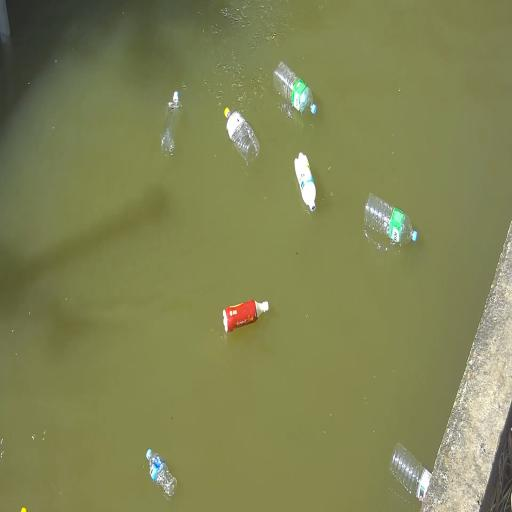plastic: (365, 193, 417, 245), (390, 443, 431, 501), (274, 62, 316, 114), (224, 107, 260, 166), (223, 300, 269, 333), (146, 449, 176, 499), (162, 91, 182, 155), (295, 153, 316, 212)
